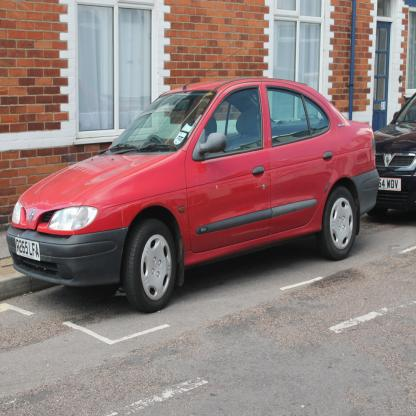Car: (7, 50, 381, 315), (367, 93, 416, 222)
